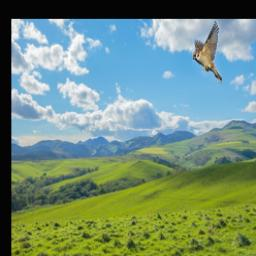Sparrow: (193, 22, 223, 84)
